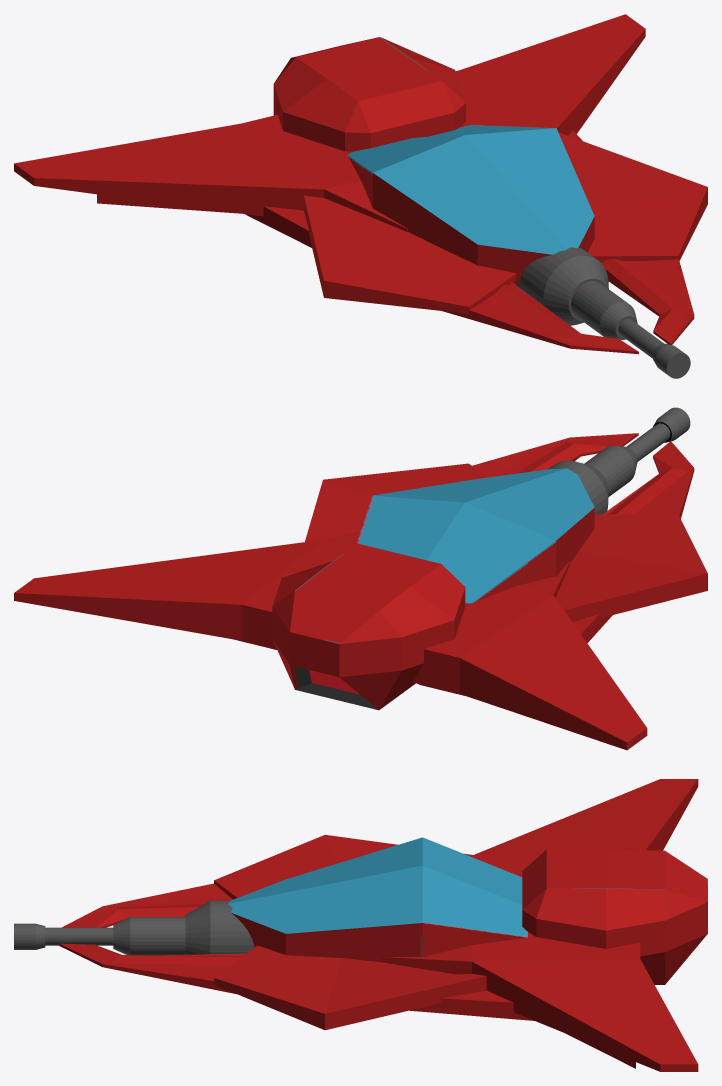
Rendered from player2.obj.
3 renders of one model, top to bottom at view 1: azimuth 30°, elevation 25°; view 2: azimuth 150°, elevation 25°; view 3: azimuth 270°, elevation 25°, orthographic. The views are drawn at different scales.
Visible parts, largest first — view 1: 円柱.001; view 2: 円柱.001; view 3: 円柱.001.
Boxes of the visible parts, x1=… form: 円柱.001: x1=14, y1=14, x2=707, y2=378; 円柱.001: x1=14, y1=407, x2=707, y2=750; 円柱.001: x1=14, y1=779, x2=707, y2=1071.
Size of the model in its own units: 3.57 by 0.6055 by 3.67.
Materials: 10 (10 with a texture image).
